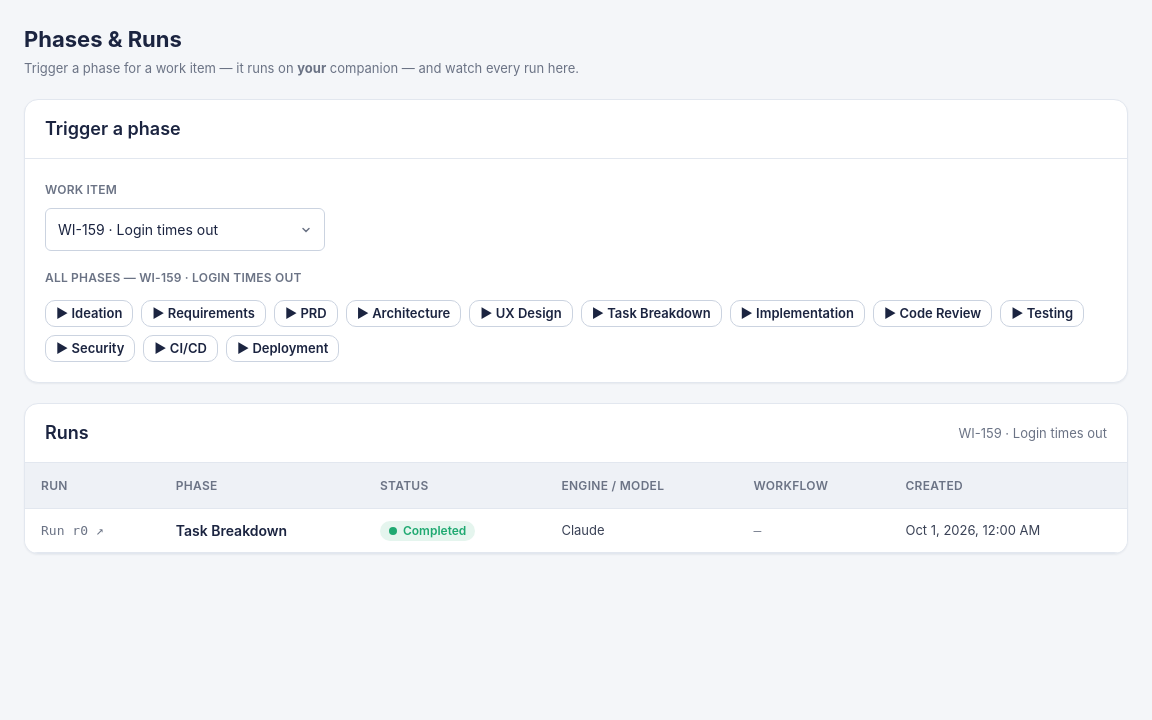
Test: Phases & Runs › still warns that a re-run replaces the last result
Expected: the text "All phases — WI-159 · Login times out" is shown, x1=45 y1=270 x2=302 y2=285
Click the button "▶ Task Breakdown" at (651, 314), box x1=581 y1=300 x2=722 y2=327
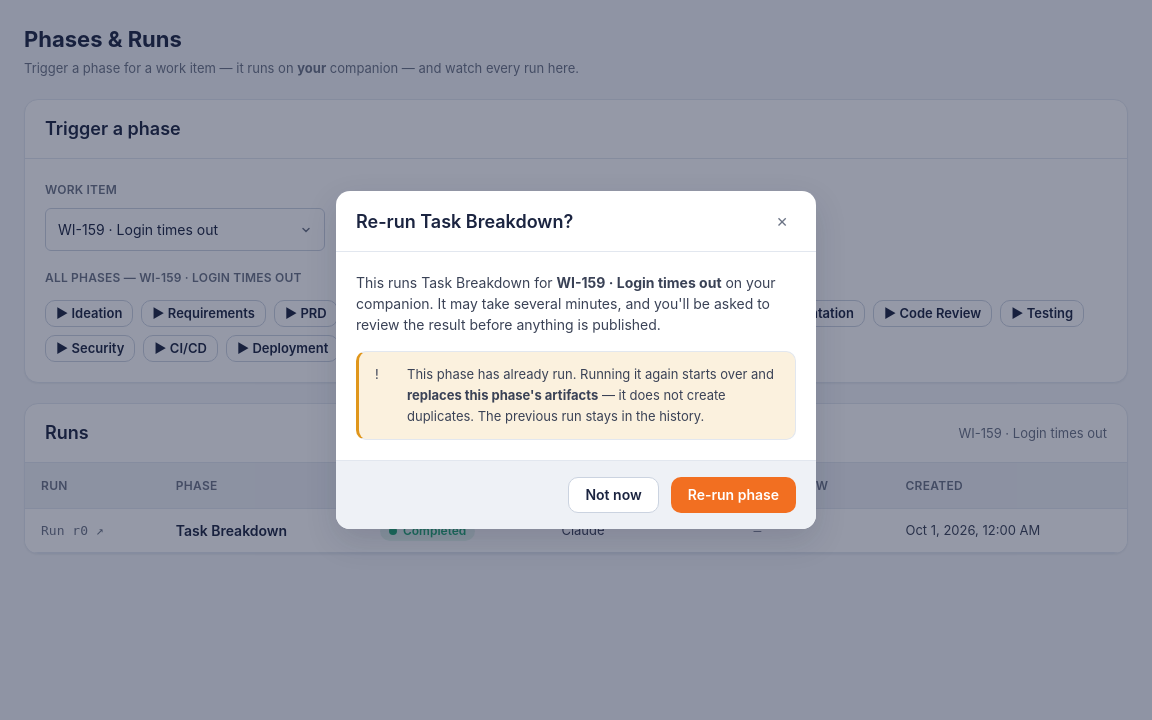
Now the text "replaces this phase's artifacts" is shown, box x1=407 y1=387 x2=598 y2=403
Now the button "Re-run phase" is shown, box x1=671 y1=477 x2=796 y2=513
